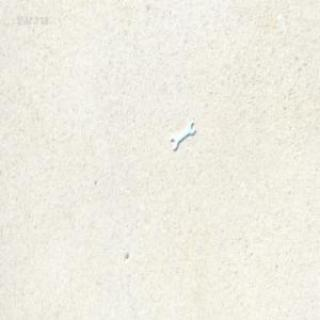Wrenchtrack_idkeyframe: (170, 120, 193, 150)
